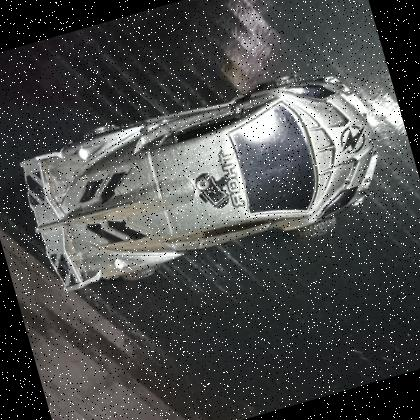Car: (5, 46, 406, 316)
